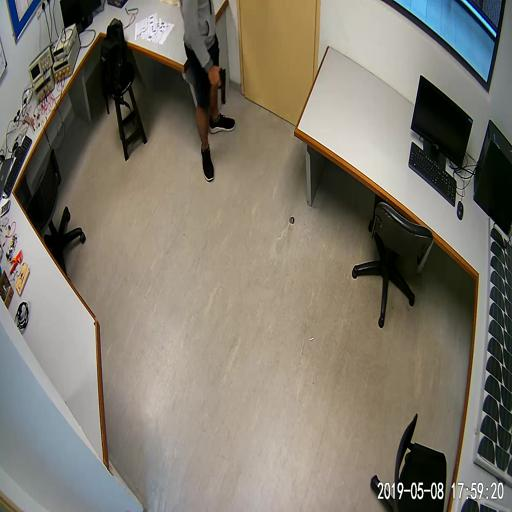pistol: (213, 67, 226, 105)
